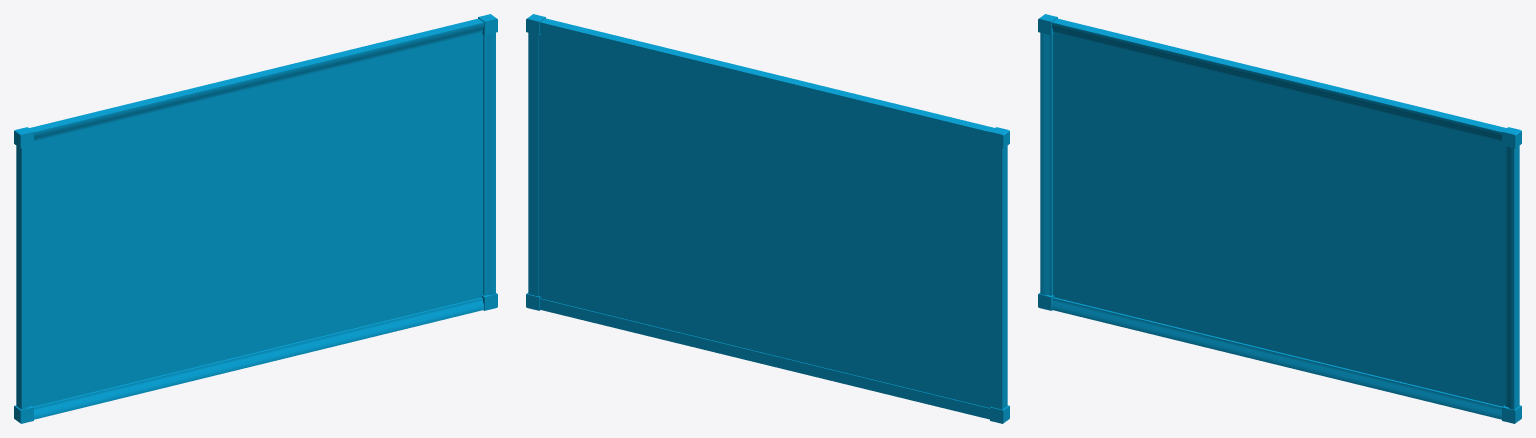
Rendered from Bulletin_Board_01_Lod0.fbx.
3 renders of one model, left to right at view 1: azimuth 30°, elevation 25°; view 2: azimuth 150°, elevation 25°; view 3: azimuth 330°, elevation 25°, orthographic.
Visible parts, largest first — view 1: Bulletin_Board_01_Lod0; view 2: Bulletin_Board_01_Lod0; view 3: Bulletin_Board_01_Lod0.
Part boxes in pixels (left/top/right/bottom): Bulletin_Board_01_Lod0: left=14, top=14, right=497, bottom=423; Bulletin_Board_01_Lod0: left=526, top=14, right=1009, bottom=423; Bulletin_Board_01_Lod0: left=1038, top=14, right=1521, bottom=423.
Bounding box in the file's own units: 181 × 105 × 4.25.
